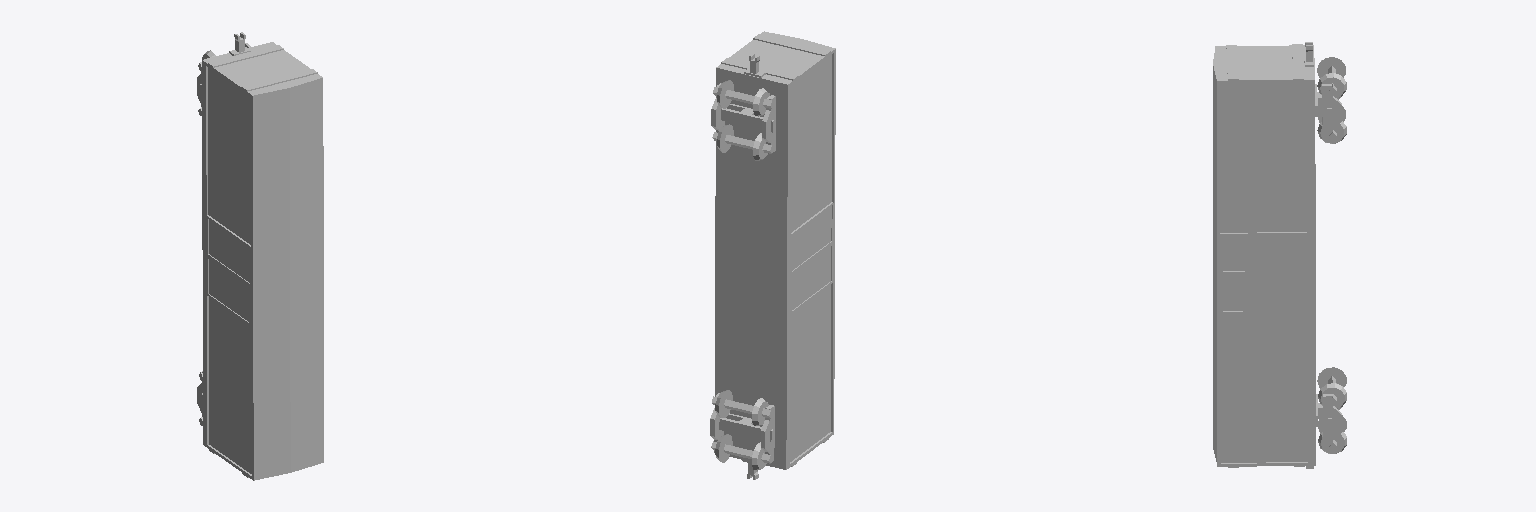
The model's file is vagon16_7.obj.
3 views of the same model, side by side, from view 1: azimuth 30°, elevation 25°; view 2: azimuth 150°, elevation 25°; view 3: azimuth 270°, elevation 25° (orthographic).
Parts seen in each view (by area): view 1: Shape_IndexedFaceSet.002_Shape_IndexedFaceSet.034, Shape_IndexedFaceSet_Shape_IndexedFaceSet.032, Shape_IndexedFaceSet.021_Shape_IndexedFaceSet.053, Shape_IndexedFaceSet.020_Shape_IndexedFaceSet.052, Shape_IndexedFaceSet.019_Shape_IndexedFaceSet.051; view 2: Shape_IndexedFaceSet.002_Shape_IndexedFaceSet.034, Shape_IndexedFaceSet_Shape_IndexedFaceSet.032, Shape_IndexedFaceSet.021_Shape_IndexedFaceSet.053, Shape_IndexedFaceSet.020_Shape_IndexedFaceSet.052, Shape_IndexedFaceSet.009_Shape_IndexedFaceSet.041, Shape_IndexedFaceSet.024_Shape_IndexedFaceSet.056, Shape_IndexedFaceSet.019_Shape_IndexedFaceSet.051; view 3: Shape_IndexedFaceSet.001_Shape_IndexedFaceSet.033, Shape_IndexedFaceSet.002_Shape_IndexedFaceSet.034, Shape_IndexedFaceSet.018_Shape_IndexedFaceSet.050, Shape_IndexedFaceSet.017_Shape_IndexedFaceSet.049, Shape_IndexedFaceSet.016_Shape_IndexedFaceSet.048, Shape_IndexedFaceSet.022_Shape_IndexedFaceSet.054, Shape_IndexedFaceSet.007_Shape_IndexedFaceSet.039.
Part boxes in pixels (left/top/right/bottom): Shape_IndexedFaceSet.002_Shape_IndexedFaceSet.034: left=202, top=42, right=323, bottom=480; Shape_IndexedFaceSet_Shape_IndexedFaceSet.032: left=206, top=66, right=251, bottom=475; Shape_IndexedFaceSet.021_Shape_IndexedFaceSet.053: left=208, top=219, right=249, bottom=283; Shape_IndexedFaceSet.020_Shape_IndexedFaceSet.052: left=208, top=259, right=249, bottom=322; Shape_IndexedFaceSet.019_Shape_IndexedFaceSet.051: left=207, top=215, right=251, bottom=326; Shape_IndexedFaceSet.002_Shape_IndexedFaceSet.034: left=714, top=31, right=835, bottom=469; Shape_IndexedFaceSet_Shape_IndexedFaceSet.032: left=790, top=53, right=833, bottom=463; Shape_IndexedFaceSet.021_Shape_IndexedFaceSet.053: left=792, top=205, right=832, bottom=271; Shape_IndexedFaceSet.020_Shape_IndexedFaceSet.052: left=792, top=246, right=831, bottom=310; Shape_IndexedFaceSet.009_Shape_IndexedFaceSet.041: left=719, top=413, right=773, bottom=441; Shape_IndexedFaceSet.024_Shape_IndexedFaceSet.056: left=721, top=104, right=774, bottom=132; Shape_IndexedFaceSet.019_Shape_IndexedFaceSet.051: left=791, top=202, right=833, bottom=313; Shape_IndexedFaceSet.001_Shape_IndexedFaceSet.033: left=1220, top=83, right=1307, bottom=463; Shape_IndexedFaceSet.002_Shape_IndexedFaceSet.034: left=1213, top=44, right=1315, bottom=467; Shape_IndexedFaceSet.018_Shape_IndexedFaceSet.050: left=1223, top=275, right=1304, bottom=311; Shape_IndexedFaceSet.017_Shape_IndexedFaceSet.049: left=1223, top=235, right=1304, bottom=271; Shape_IndexedFaceSet.016_Shape_IndexedFaceSet.048: left=1220, top=232, right=1307, bottom=313; Shape_IndexedFaceSet.022_Shape_IndexedFaceSet.054: left=1322, top=84, right=1341, bottom=140; Shape_IndexedFaceSet.007_Shape_IndexedFaceSet.039: left=1323, top=394, right=1342, bottom=450.
Size of the model in its own units: 4.65 by 25.41 by 7.33.